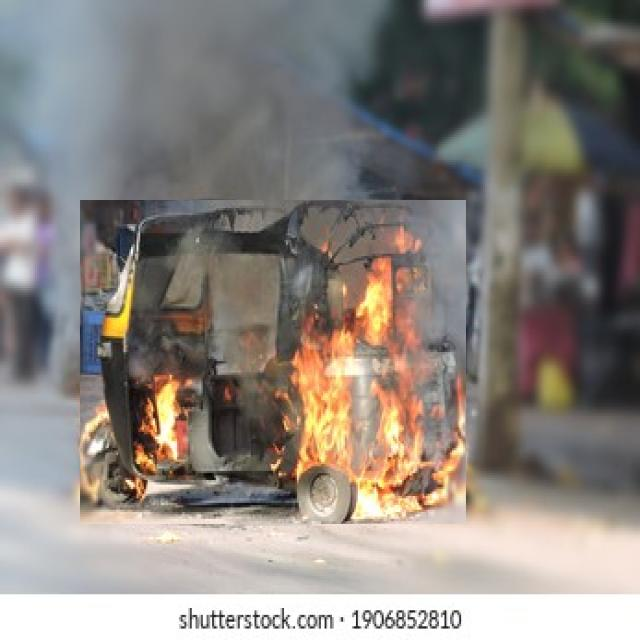accident: (80, 200, 466, 524)
